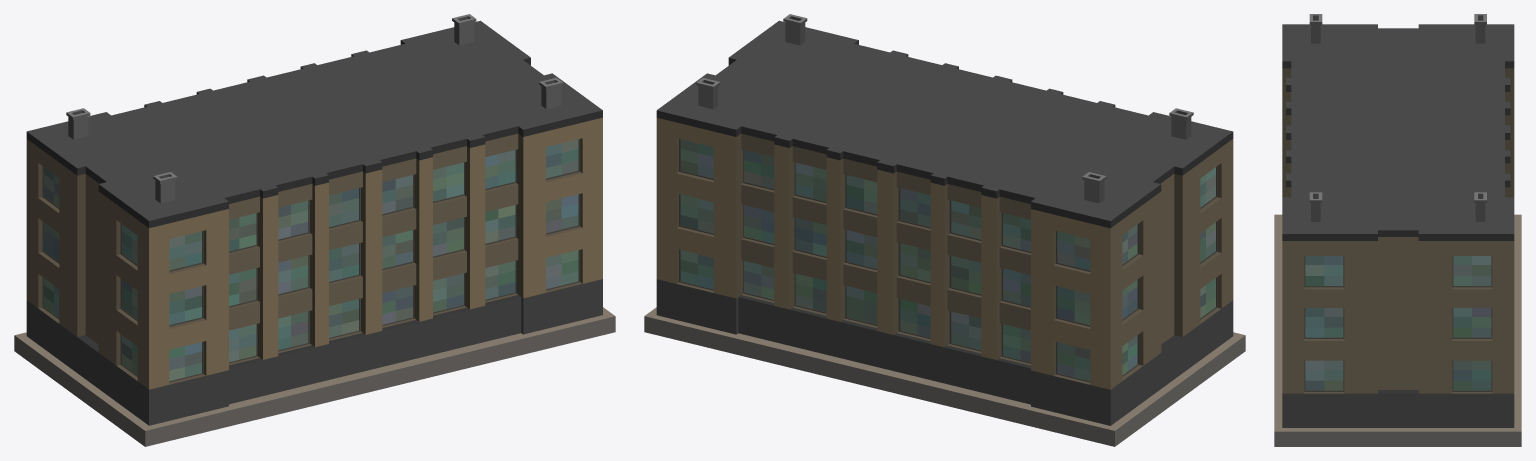
The model's file is Industrial_Factory_alt04.glb.
The picture shows the model from 3 angles, left to right: view 1: azimuth 30°, elevation 25°; view 2: azimuth 150°, elevation 25°; view 3: azimuth 270°, elevation 25°; orthographic projection. The views are drawn at different scales.
Visible parts, largest first — view 1: base.013, windowRefl.010; view 2: base.013, windowRefl.010; view 3: base.013, windowRefl.010.
Part boxes in pixels (<box>): base.013: <box>14,14,615,446</box>; windowRefl.010: <box>44,139,578,380</box>; base.013: <box>644,14,1245,446</box>; windowRefl.010: <box>680,139,1215,381</box>; base.013: <box>1274,14,1521,446</box>; windowRefl.010: <box>1305,256,1491,390</box>.
Size of the model in its own units: 48.35 by 23.98 by 23.28.
